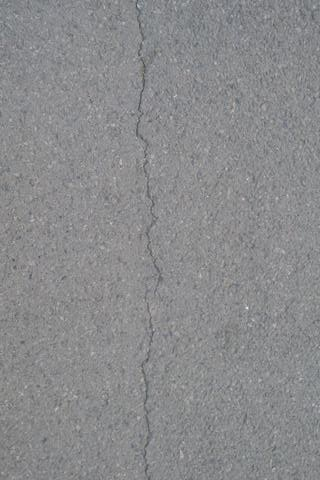A: (125, 1, 163, 480)
